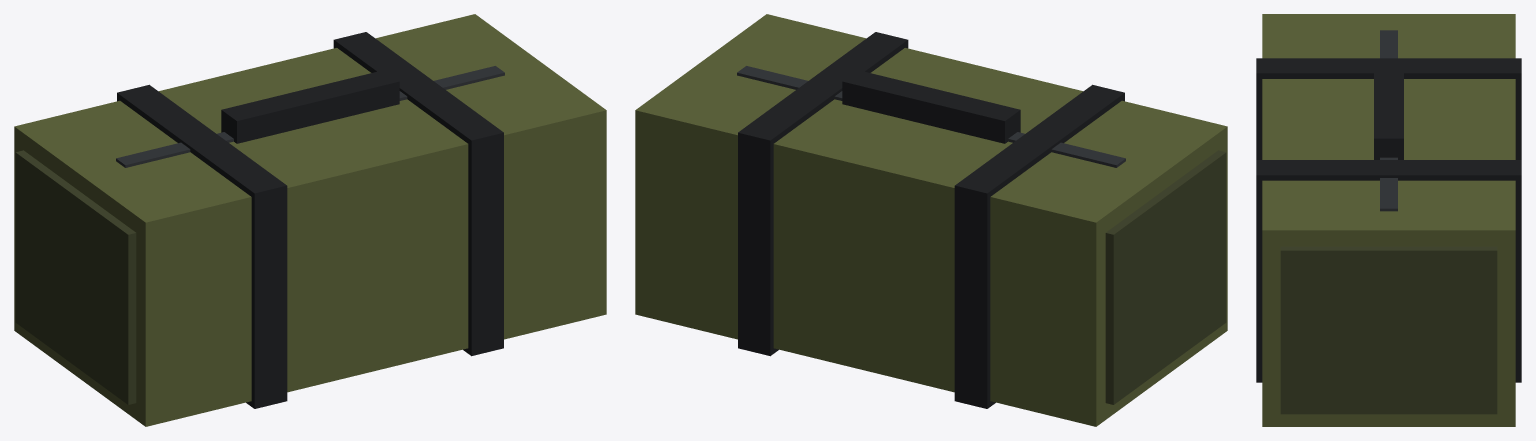
Rendered from duffel.glb.
The picture shows the model from 3 angles, left to right: view 1: azimuth 30°, elevation 25°; view 2: azimuth 150°, elevation 25°; view 3: azimuth 270°, elevation 25°; orthographic projection. The views are drawn at different scales.
Visible parts, largest first — view 1: duffel; view 2: duffel; view 3: duffel.
Part boxes in pixels (<box>): duffel: <box>14,14,606,426</box>; duffel: <box>635,14,1227,426</box>; duffel: <box>1256,14,1521,426</box>.
Bounding box in the file's own units: 0.88 × 0.41 × 0.44.
Materials: 4 (4 with a texture image).
